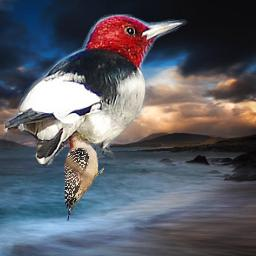Woodpecker: (3, 14, 188, 167), (64, 121, 104, 221)
